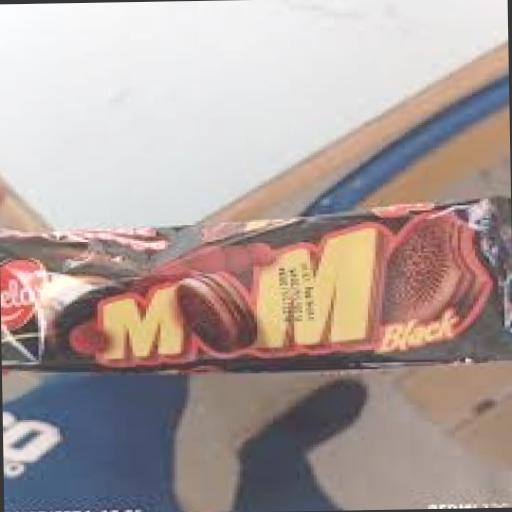MOMO: (0, 168, 512, 435)
